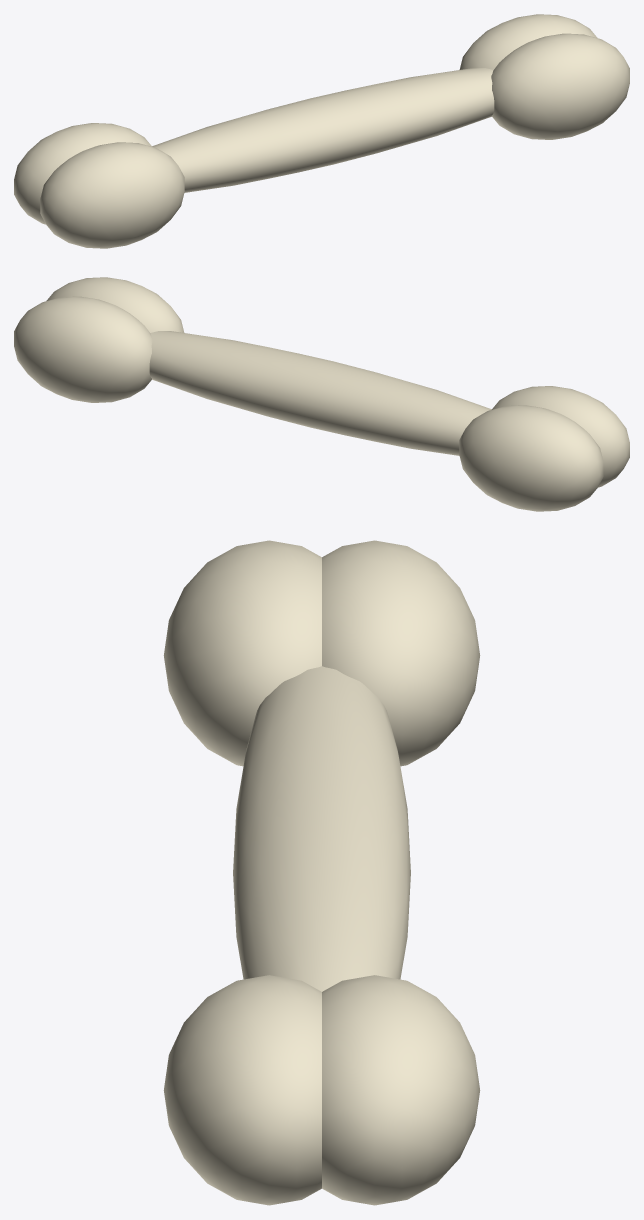
File: BONE.glb
3 renders of one model, top to bottom at view 1: azimuth 30°, elevation 25°; view 2: azimuth 150°, elevation 25°; view 3: azimuth 270°, elevation 25°, orthographic. The views are drawn at different scales.
Visible parts, largest first — view 1: BONE/0000_shaft, BONE/0001_bone_end, BONE/0003_bone_end, BONE/0002_bone_end, BONE/0004_bone_end; view 2: BONE/0000_shaft, BONE/0002_bone_end, BONE/0004_bone_end, BONE/0001_bone_end, BONE/0003_bone_end; view 3: BONE/0000_shaft, BONE/0003_bone_end, BONE/0004_bone_end, BONE/0001_bone_end, BONE/0002_bone_end.
Part boxes in pixels (box(x1,y1,x2,y2)): BONE/0000_shaft: box(152, 68, 494, 192); BONE/0001_bone_end: box(40, 142, 184, 248); BONE/0003_bone_end: box(491, 33, 629, 139); BONE/0002_bone_end: box(14, 123, 152, 224); BONE/0004_bone_end: box(459, 14, 597, 69); BONE/0000_shaft: box(149, 331, 491, 455); BONE/0002_bone_end: box(459, 405, 603, 511); BONE/0004_bone_end: box(14, 296, 152, 402); BONE/0001_bone_end: box(491, 386, 629, 487); BONE/0003_bone_end: box(46, 277, 184, 332); BONE/0000_shaft: box(233, 666, 410, 991); BONE/0003_bone_end: box(163, 975, 321, 1205); BONE/0004_bone_end: box(322, 975, 480, 1205); BONE/0001_bone_end: box(163, 540, 321, 766); BONE/0002_bone_end: box(322, 540, 480, 766).
Size of the model in its own units: 0.2856 by 0.0441 by 0.0672.
